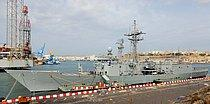MIL_Ship: (4, 20, 209, 91)
